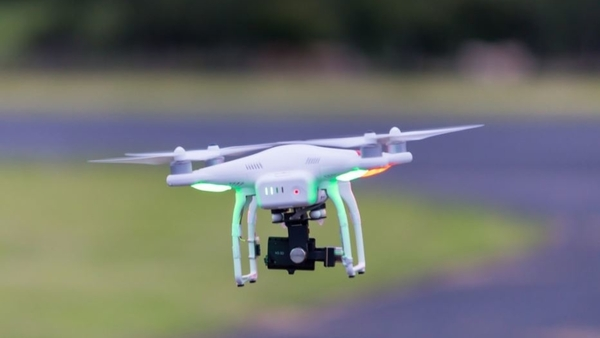drone: (87, 122, 485, 288)
